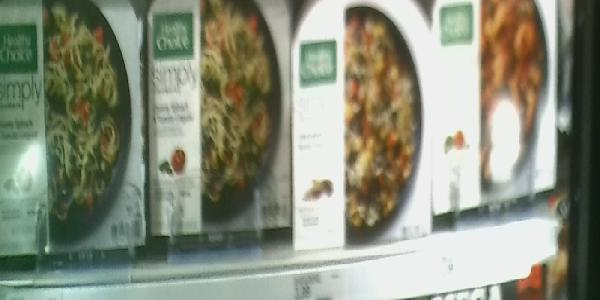pizza1: (1, 1, 146, 260), (147, 1, 291, 245), (292, 2, 431, 243), (432, 2, 569, 217)
